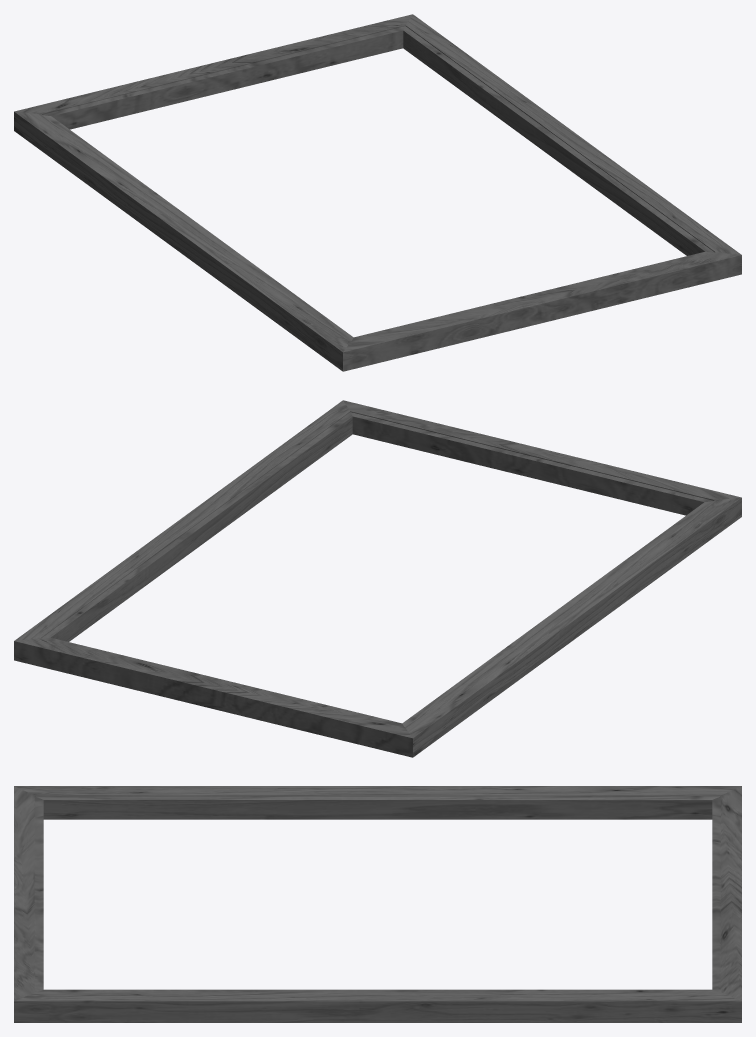
File: Raam100x70-grijs.dae
The picture shows the model from 3 angles, top to bottom: view 1: azimuth 30°, elevation 25°; view 2: azimuth 150°, elevation 25°; view 3: azimuth 270°, elevation 25°; orthographic projection. The views are drawn at different scales.
Parts seen in each view (by area): view 1: Raam_geo; view 2: Raam_geo; view 3: Raam_geo.
Part boxes in pixels (box(x1,y1,x2,y2)): Raam_geo: box(14, 14, 741, 371); Raam_geo: box(14, 400, 741, 757); Raam_geo: box(14, 786, 741, 1022).
Size of the model in its own units: 70 by 3.25 by 100.
1 material, 1 textured.
